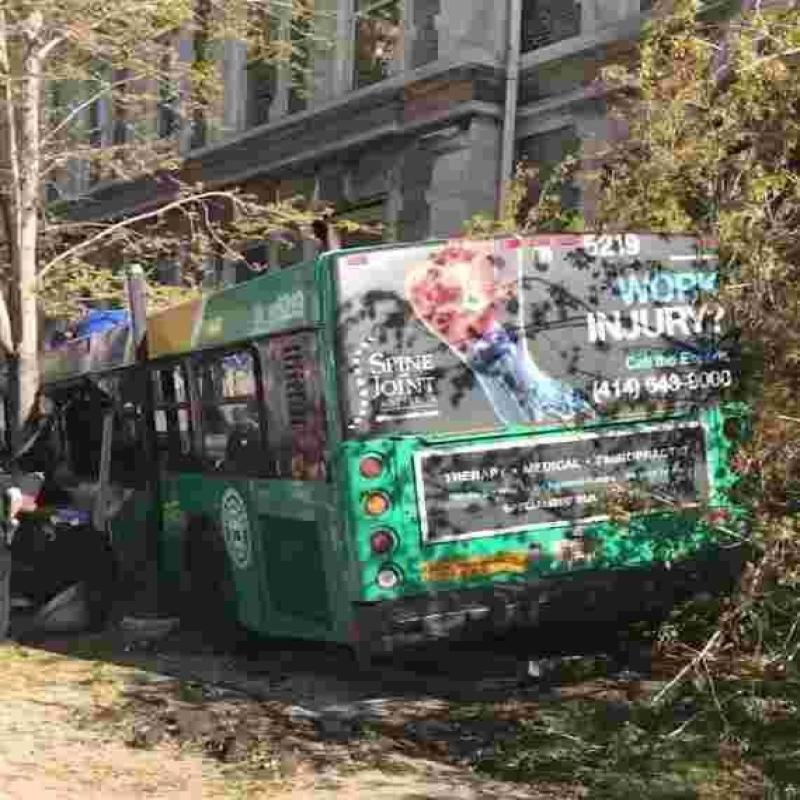bus: (134, 220, 728, 638)
